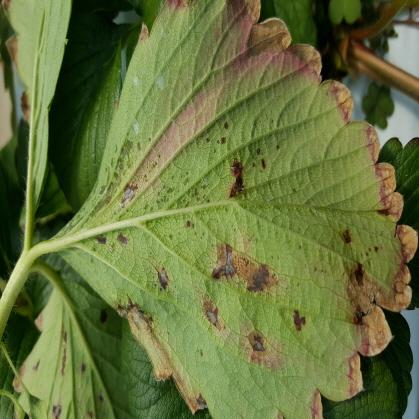Angular Leafspot: (52, 0, 418, 418), (12, 288, 113, 418)
